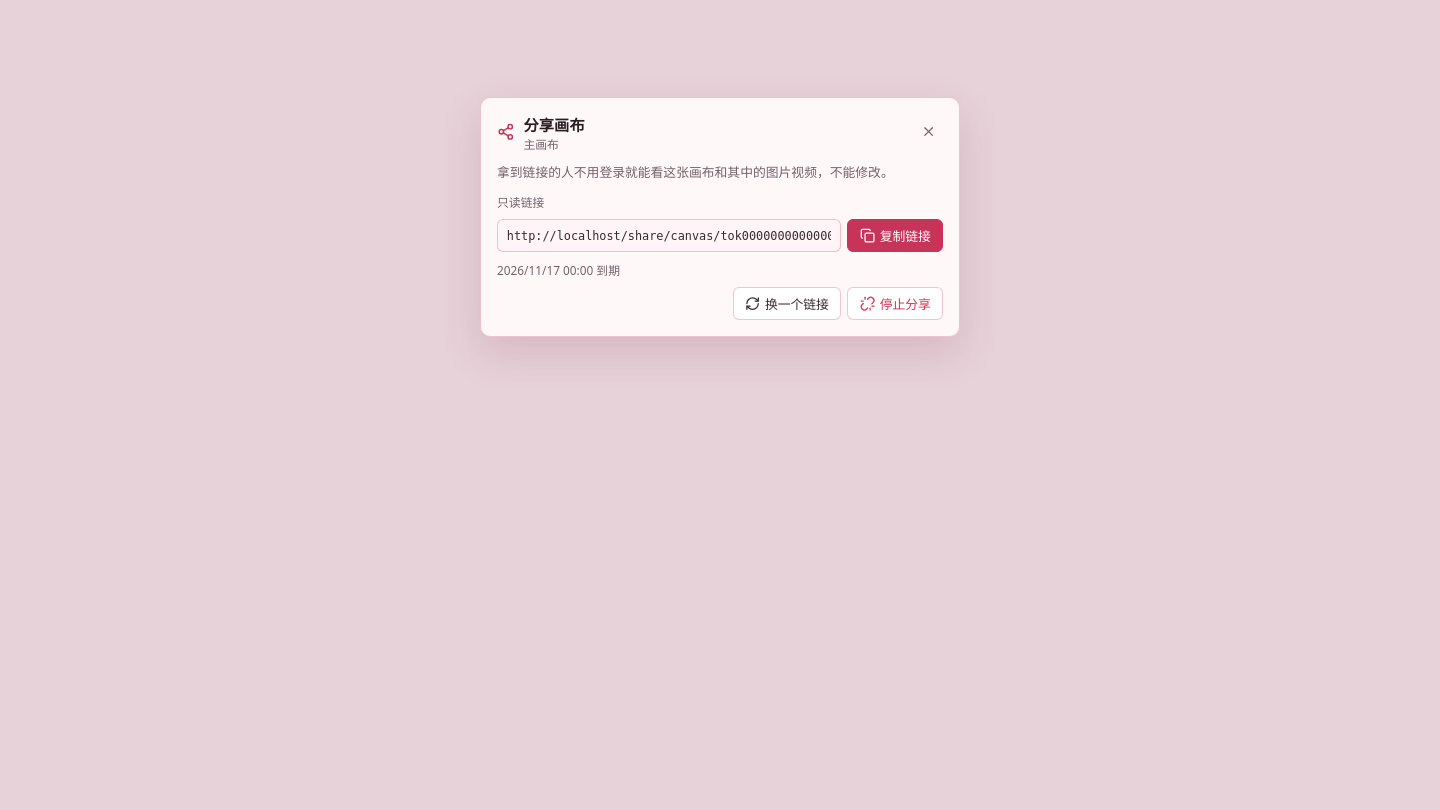
CanvasShareDialog › copies the link, and selects it when the clipboard is refused
This screenshot has width=1440, height=810.
Click the button "复制链接".
click(895, 236)  # box top-left (848, 219), bottom-right (943, 252)
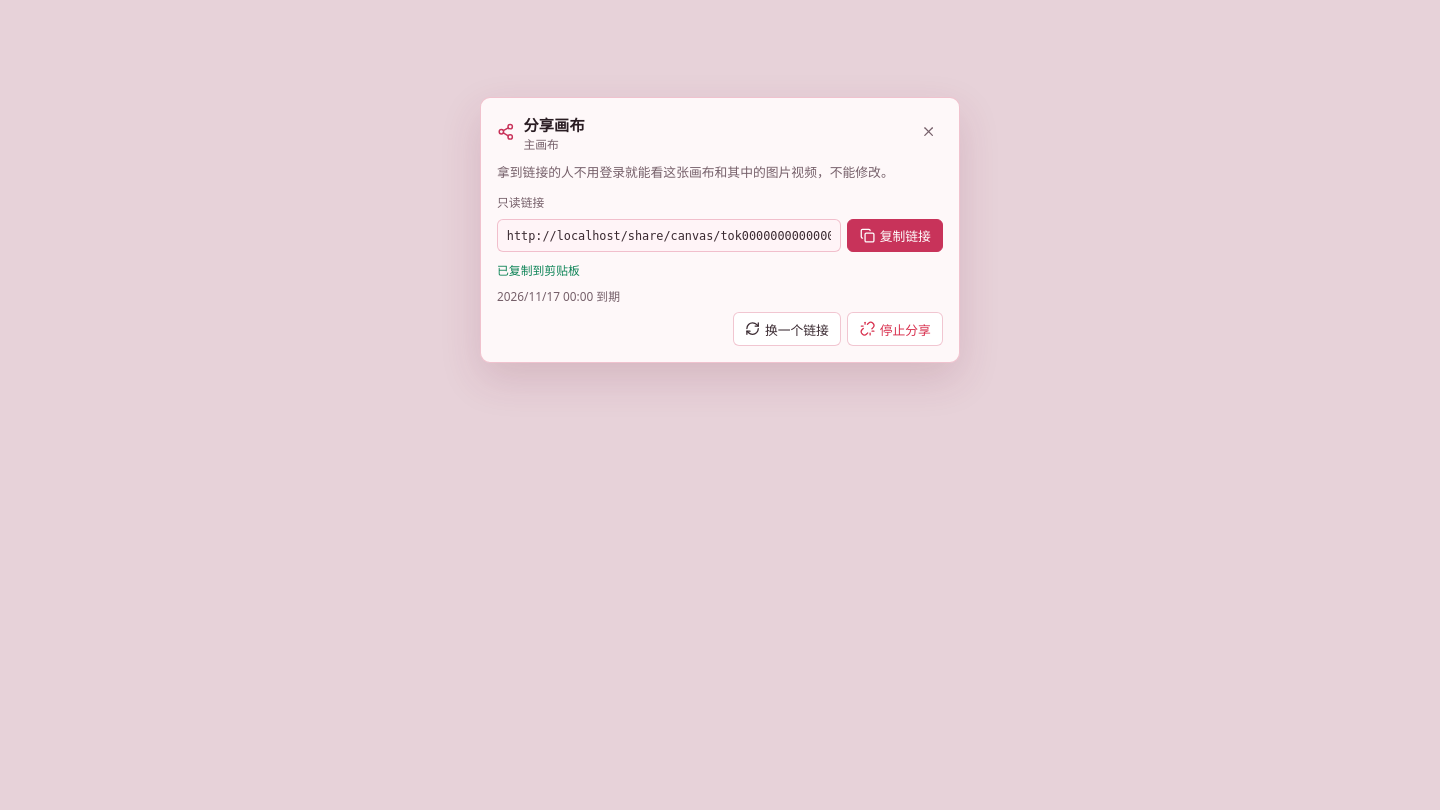
Now the text "已复制到剪贴板" is shown, box top-left (497, 262), bottom-right (580, 278)
Click the button "复制链接".
click(895, 236)  # box top-left (848, 219), bottom-right (943, 252)
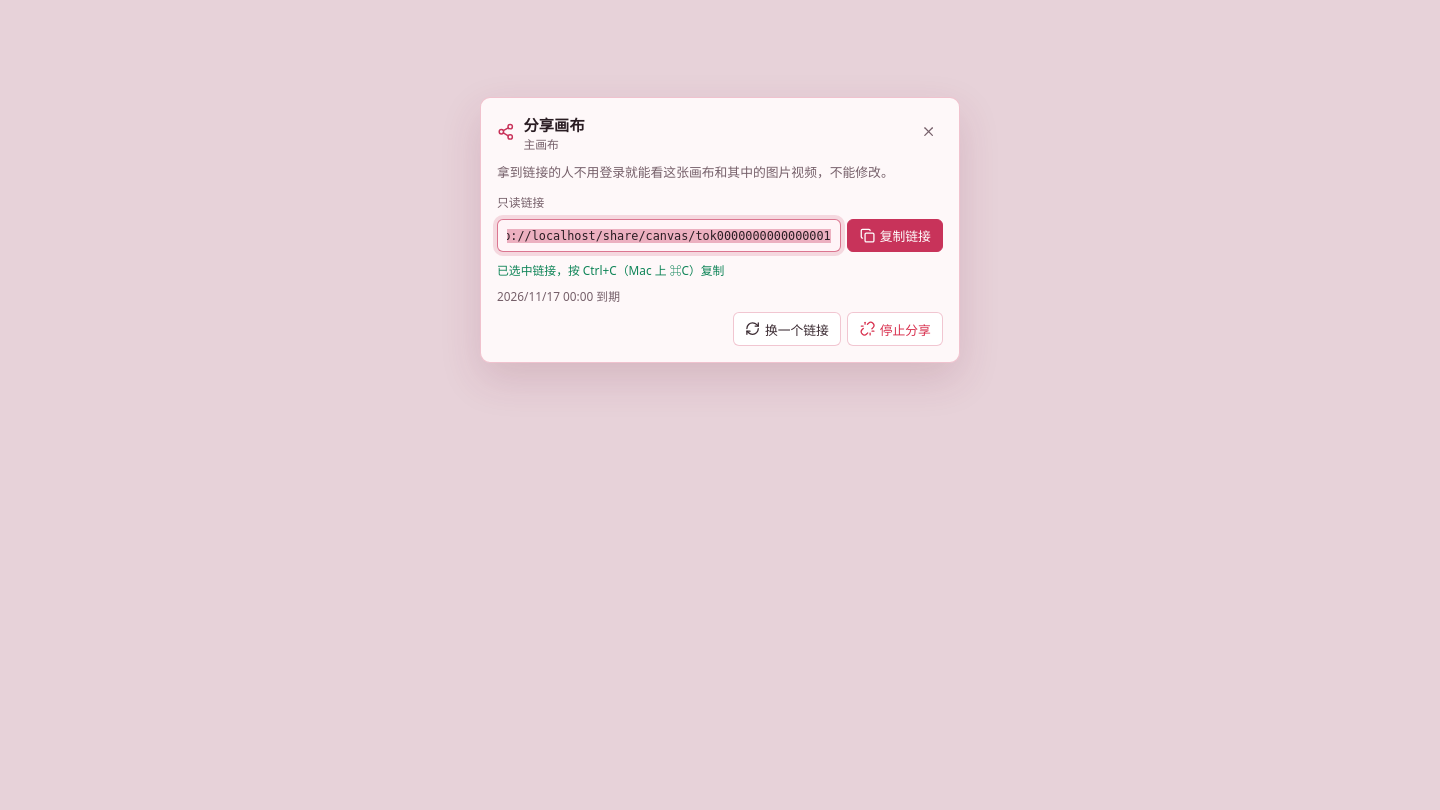
Now the text "已选中链接，按 Ctrl+C（Mac 上 ⌘C）复制" is shown, box top-left (497, 262), bottom-right (724, 278)
